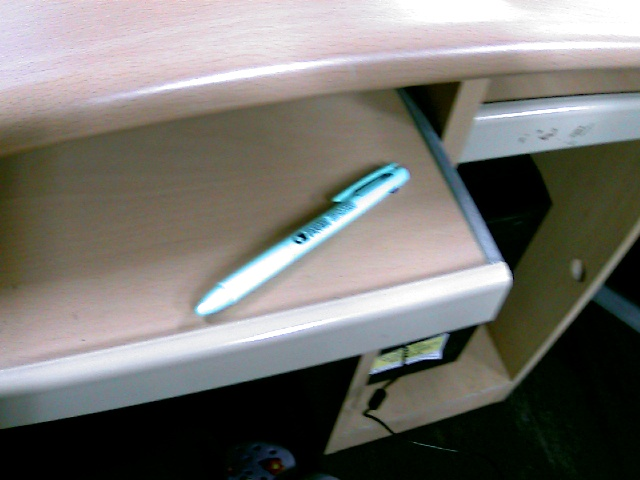pen: (192, 137, 432, 327)
